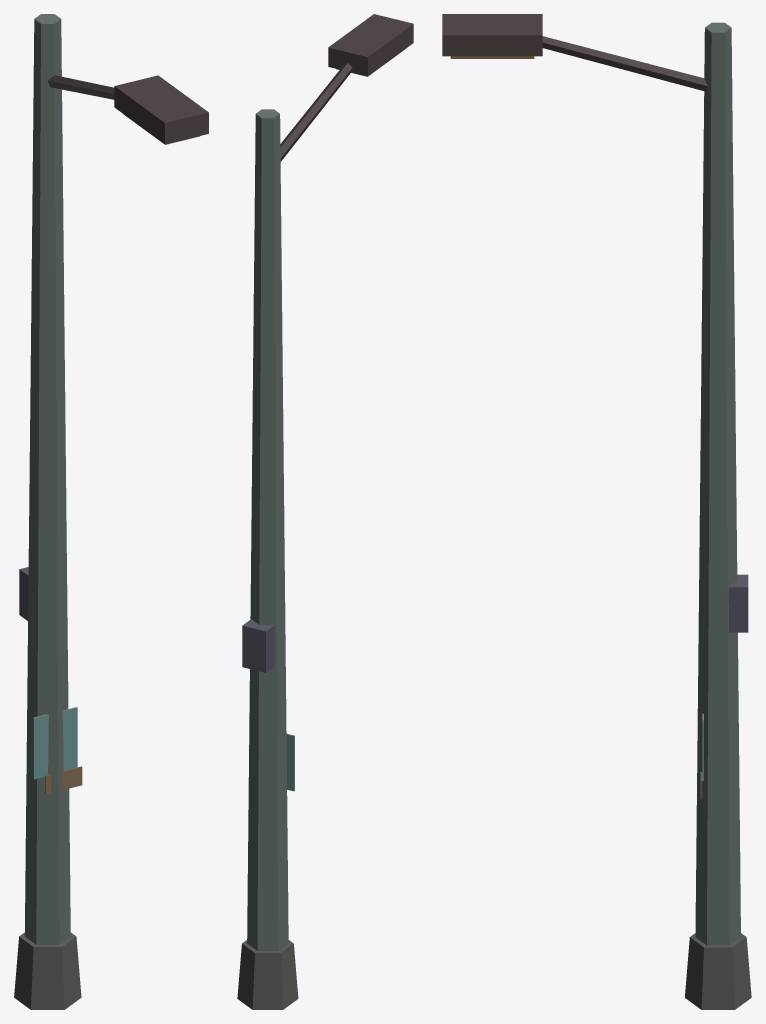
Rendered from stalp.glb.
The picture shows the model from 3 angles, left to right: view 1: azimuth 30°, elevation 25°; view 2: azimuth 150°, elevation 25°; view 3: azimuth 270°, elevation 25°; orthographic projection. The views are drawn at different scales.
Parts seen in each view (by area): view 1: Stalp; view 2: Stalp; view 3: Stalp.
Boxes of the visible parts, bbox=[...] form: Stalp: bbox=[14, 14, 208, 1009]; Stalp: bbox=[237, 14, 413, 1009]; Stalp: bbox=[442, 14, 751, 1009].
Bounding box in the file's own units: 0.3482 × 6.42 × 1.85.
